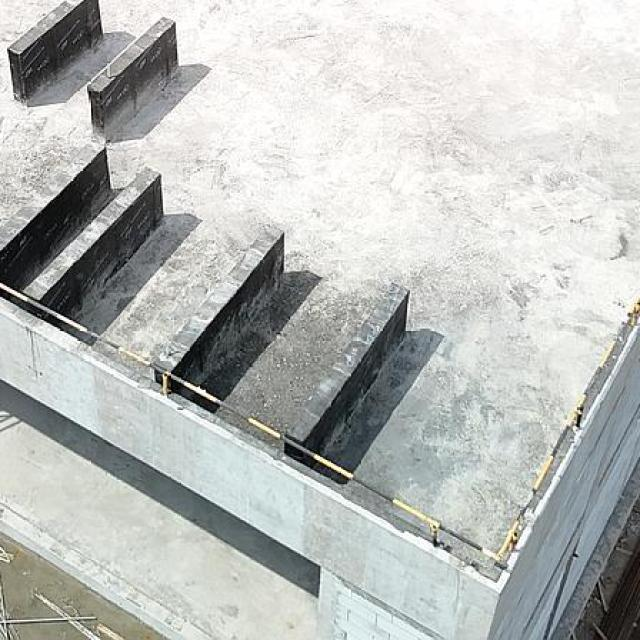edge_guardrail: (0, 282, 640, 562)
